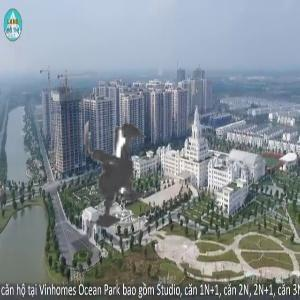drone: (20, 69, 233, 282)
